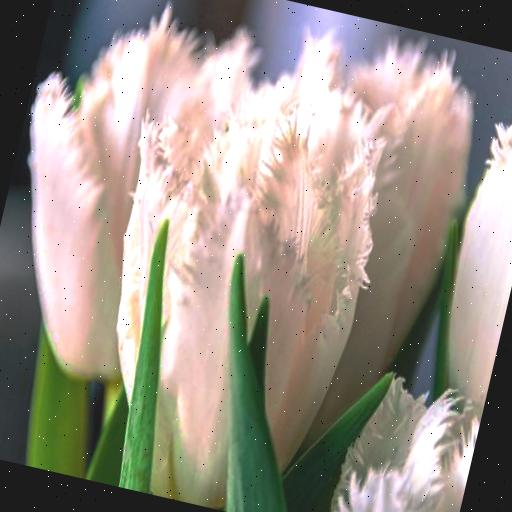tulip: (69, 51, 399, 512)
